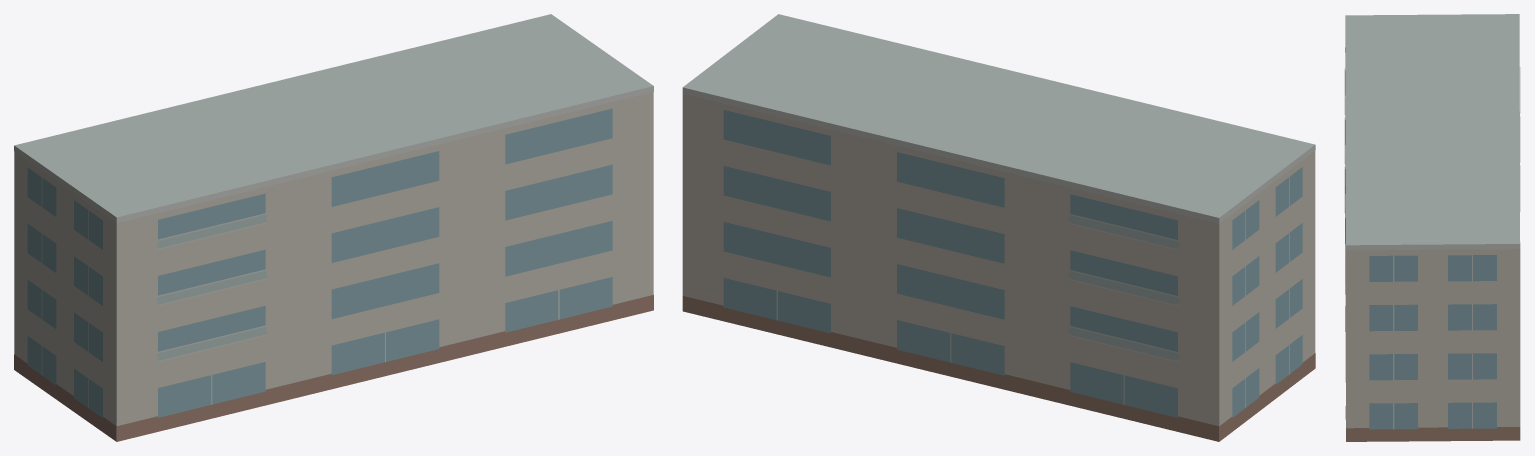
Rendered from survey-upis-32725684.glb.
3 views of the same model, side by side, from view 1: azimuth 30°, elevation 25°; view 2: azimuth 150°, elevation 25°; view 3: azimuth 270°, elevation 25° (orthographic). The views are drawn at different scales.
Visible parts, largest first — view 1: survey-upis-32725684.tmp; view 2: survey-upis-32725684.tmp; view 3: survey-upis-32725684.tmp.
Part boxes in pixels (<box>): survey-upis-32725684.tmp: <box>14,14,653,441</box>; survey-upis-32725684.tmp: <box>682,14,1315,441</box>; survey-upis-32725684.tmp: <box>1344,14,1520,441</box>.
Bounding box in the file's own units: 23.21 × 9.2 × 7.48.
